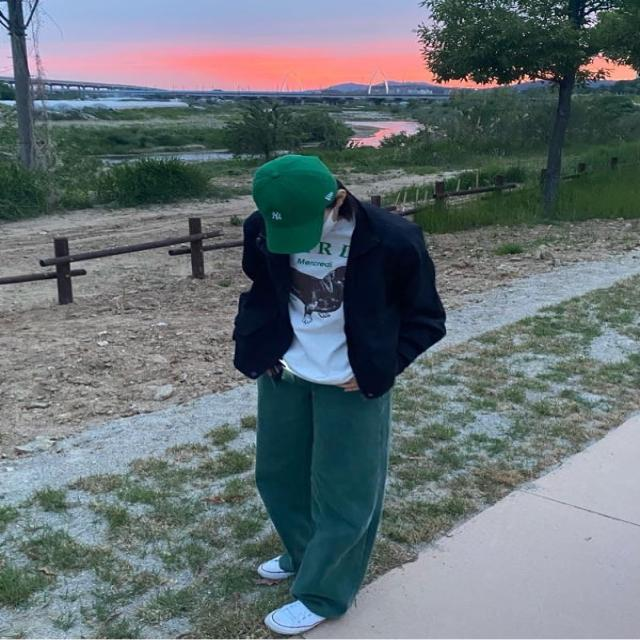cottonpants: (258, 378, 394, 614)
jacket: (228, 192, 444, 395)
